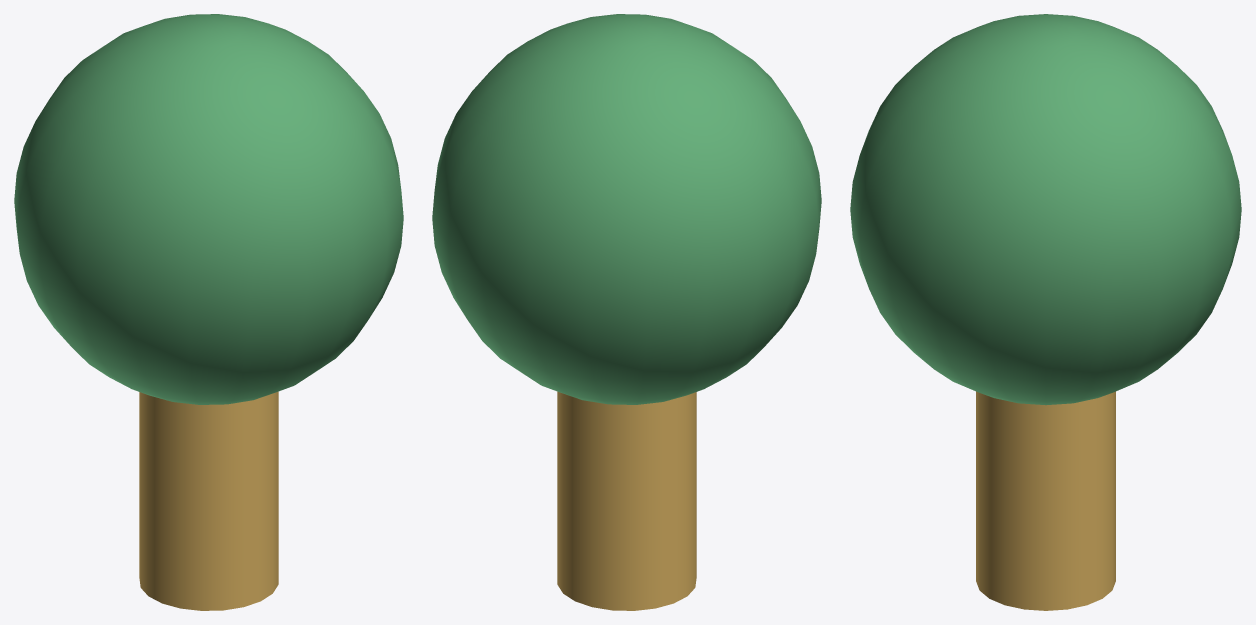
Rendered from redonda_verde.fbx.
3 views of the same model, side by side, from view 1: azimuth 30°, elevation 25°; view 2: azimuth 150°, elevation 25°; view 3: azimuth 270°, elevation 25° (orthographic).
Visible parts, largest first — view 1: pSphere2, arvore13; view 2: pSphere2, arvore13; view 3: pSphere2, arvore13.
Boxes of the visible parts, box(x1,y1,x2,y2) form: pSphere2: box(14, 14, 403, 404); arvore13: box(139, 391, 278, 610); pSphere2: box(432, 14, 821, 404); arvore13: box(557, 391, 696, 610); pSphere2: box(850, 14, 1241, 405); arvore13: box(976, 391, 1115, 610).
Bounding box in the file's own units: 1.5 × 2.32 × 1.5.
